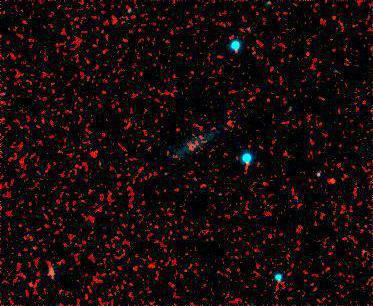star: (318, 165, 348, 195)
